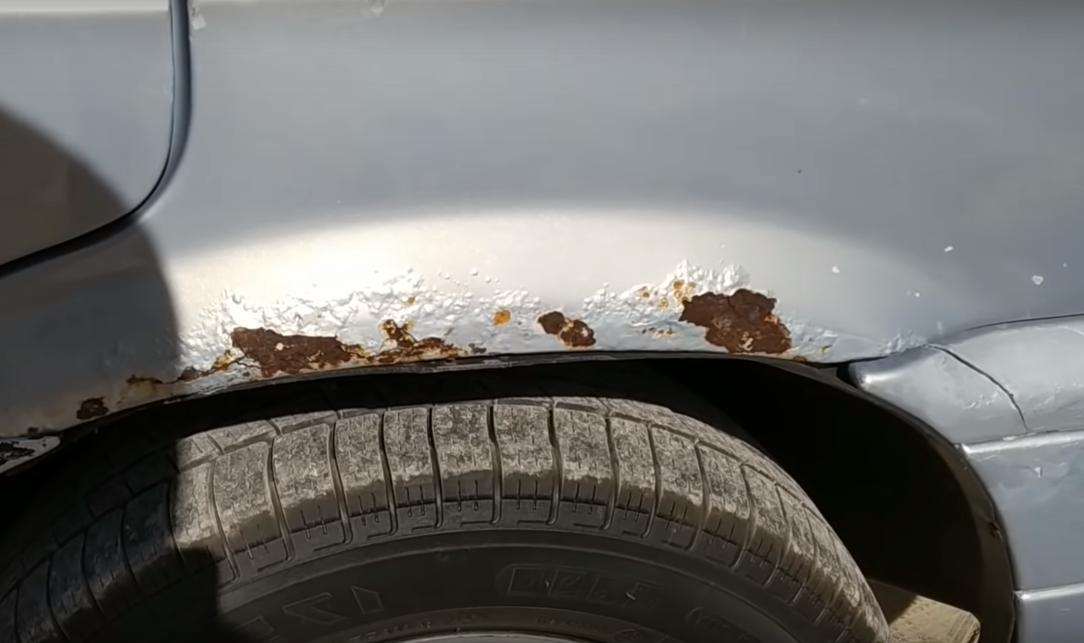corrosion: (6, 248, 860, 430)
